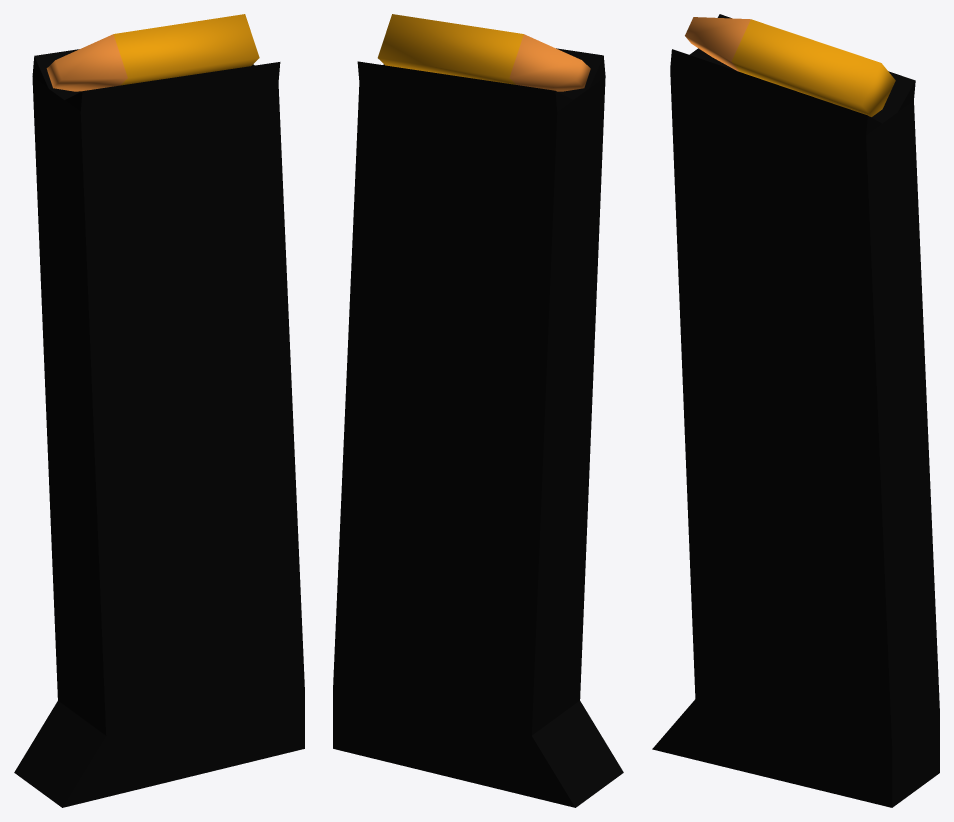
File: 45bulletmag.fbx
3 views of the same model, side by side, from view 1: azimuth 30°, elevation 25°; view 2: azimuth 150°, elevation 25°; view 3: azimuth 330°, elevation 25° (orthographic).
Visible parts, largest first — view 1: Cube.001, Cube, Cube.002; view 2: Cube.001, Cube, Cube.002; view 3: Cube.001, Cube, Cube.002.
Boxes of the visible parts, box(x1,y1,x2,y2) form: Cube.001: box(14, 49, 304, 807); Cube: box(46, 14, 259, 91); Cube.002: box(47, 14, 258, 91); Cube.001: box(333, 48, 623, 807); Cube: box(377, 14, 590, 91); Cube.002: box(381, 14, 590, 91); Cube.001: box(652, 14, 939, 807); Cube: box(685, 17, 895, 116); Cube.002: box(685, 17, 893, 116).
Size of the model in its own units: 44.29 by 129 by 15.26.
